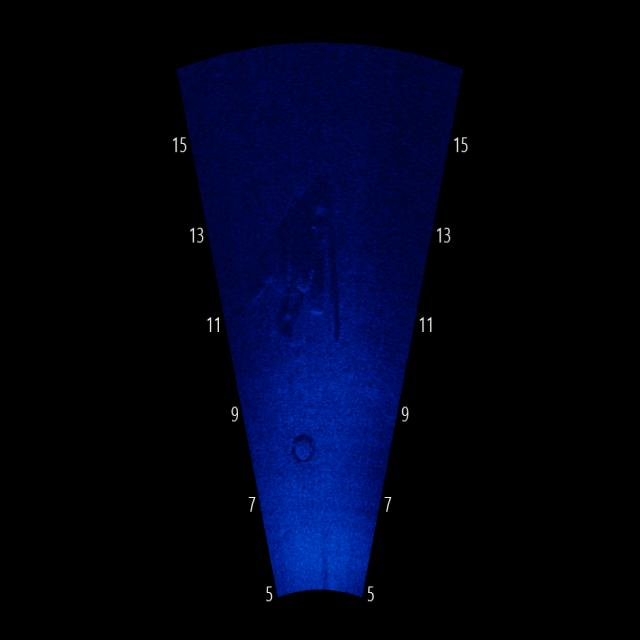triangle: (233, 161, 373, 357)
